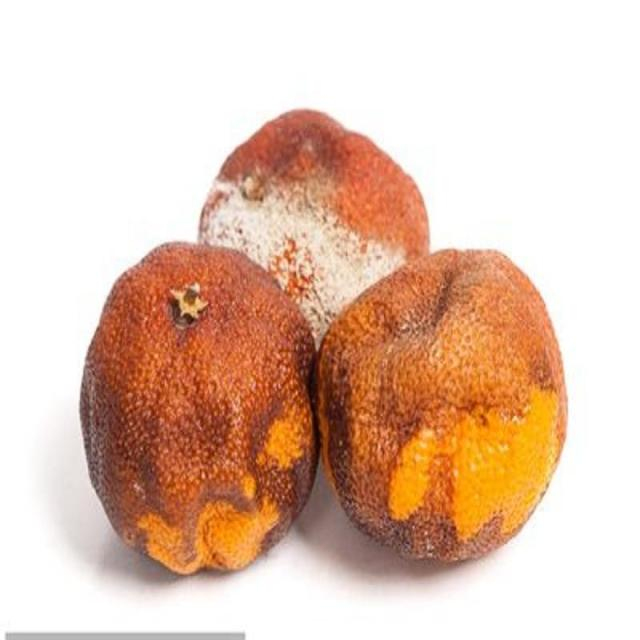organic: (78, 110, 569, 577)
